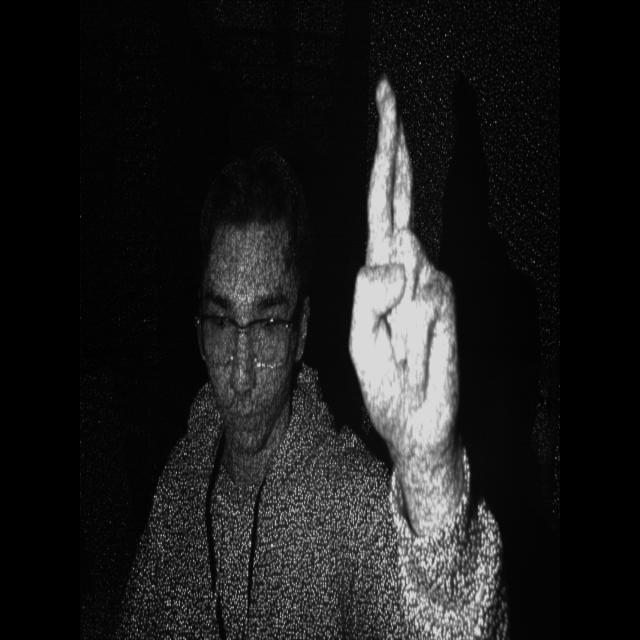R: (345, 65, 487, 528)
